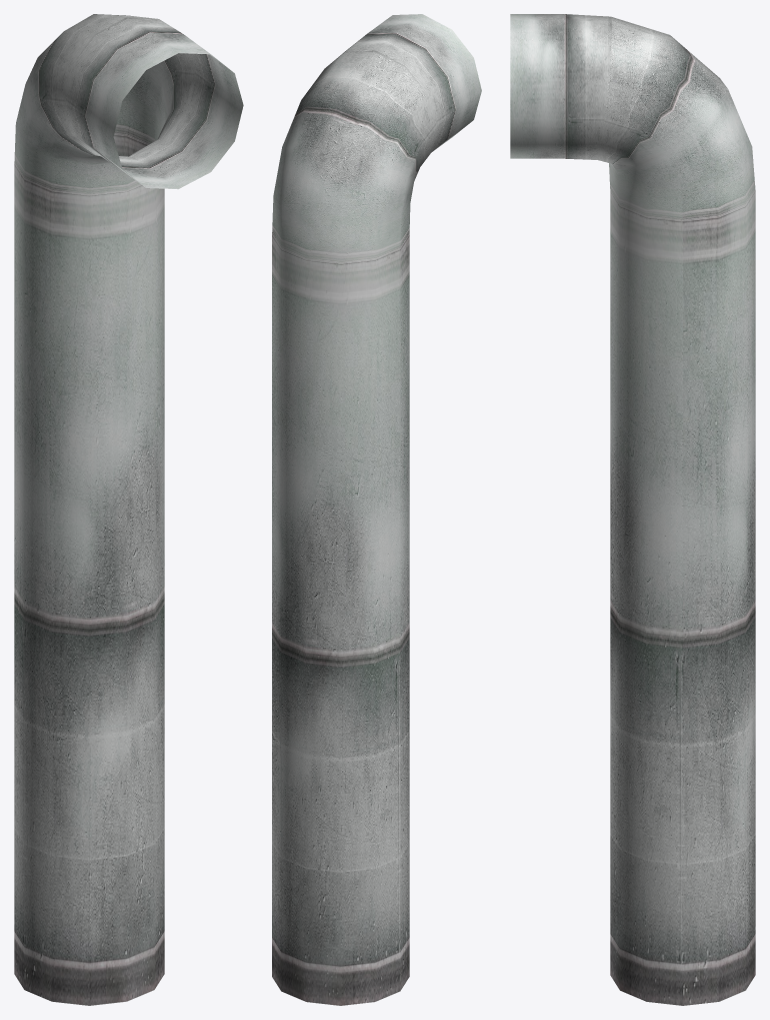
Rendered from bigPipe_2.obj.
3 renders of one model, left to right at view 1: azimuth 30°, elevation 25°; view 2: azimuth 150°, elevation 25°; view 3: azimuth 270°, elevation 25°, orthographic. The views are drawn at different scales.
Parts seen in each view (by area): view 1: bigPipe_2; view 2: bigPipe_2; view 3: bigPipe_2.
Boxes of the visible parts, bbox=[...] form: bigPipe_2: bbox=[14, 14, 243, 1005]; bigPipe_2: bbox=[272, 14, 481, 1005]; bigPipe_2: bbox=[510, 14, 755, 1005].
Size of the model in its own units: 0.6302 by 4.57 by 1.06.
Materials: 1 (1 with a texture image).
